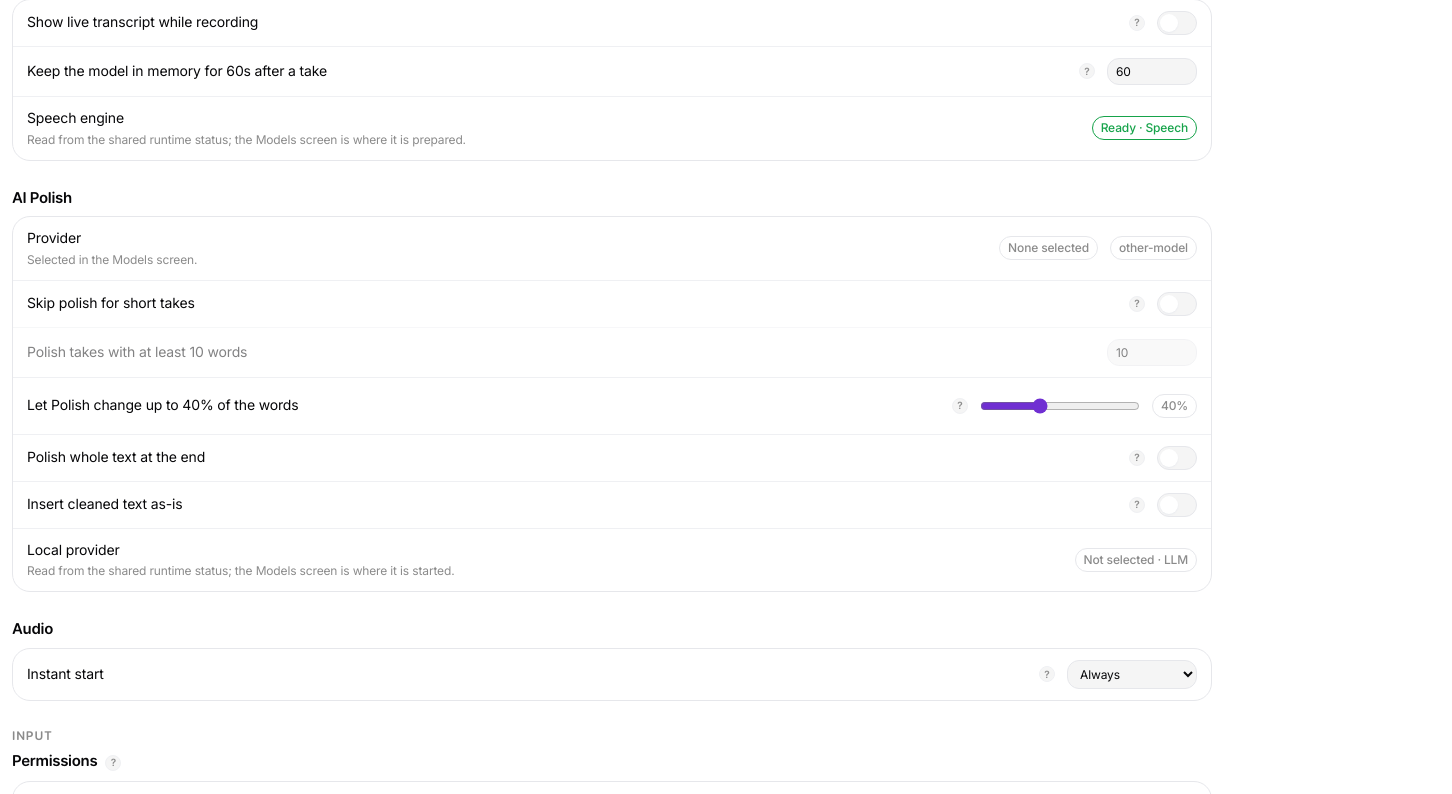
Polish change ceiling › turns the ceiling off at 100%
The width and height of the screenshot is (1452, 794).
(page scrolled)
Set the slider named "Polish change limit" to "100" at (1132, 406), box [980,389,1140,423]
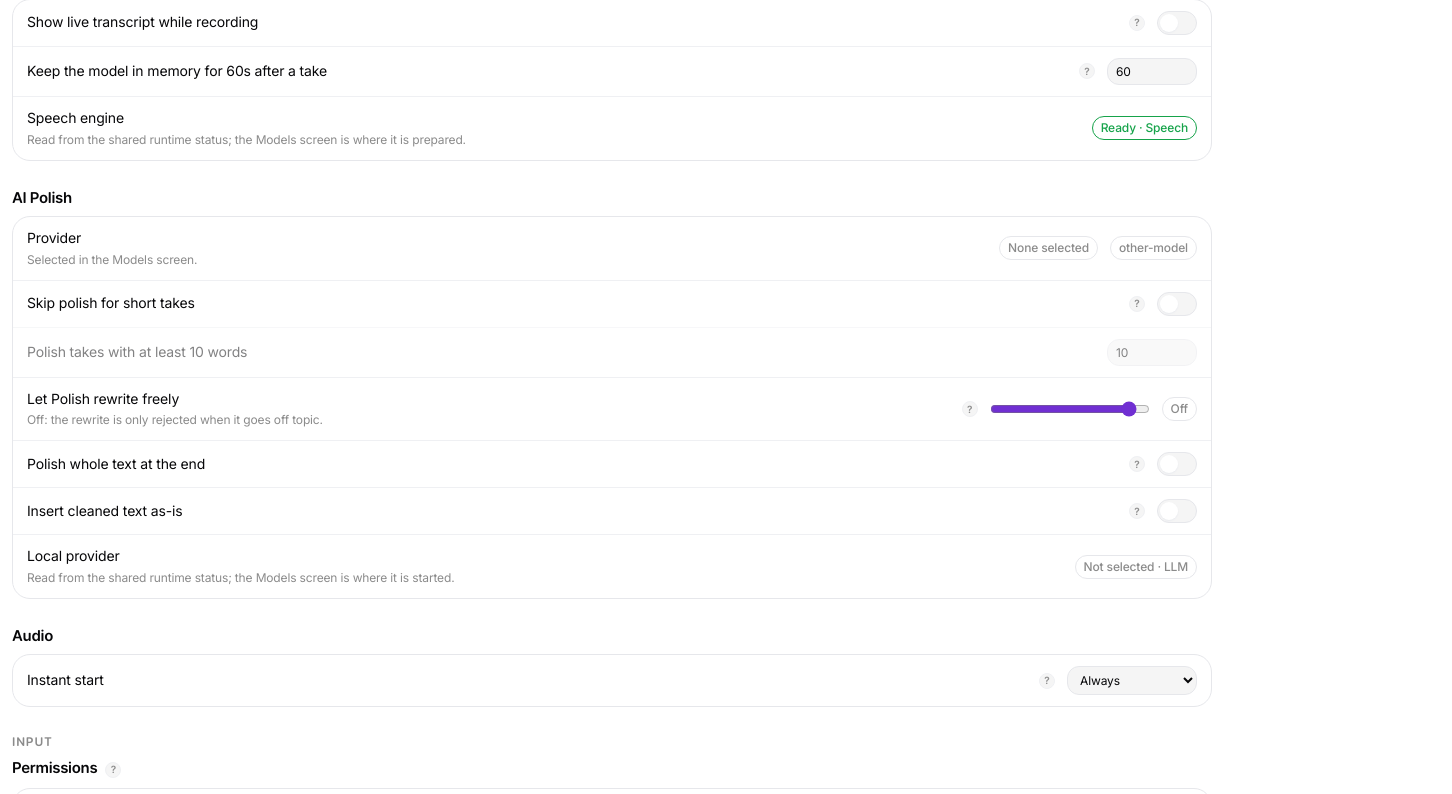
Check: the element named "Polish change limit" shows "Let Polish rewrite freely", box [27,390,179,407]
Check: the element named "Polish change limit" shows "Off", box [1171,401,1188,416]
